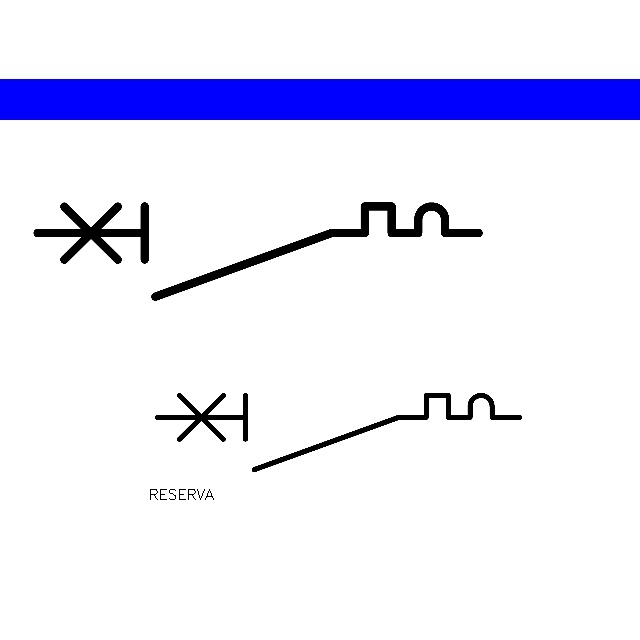interruptor_termomagnetico: (26, 195, 490, 308), (148, 386, 529, 479)
